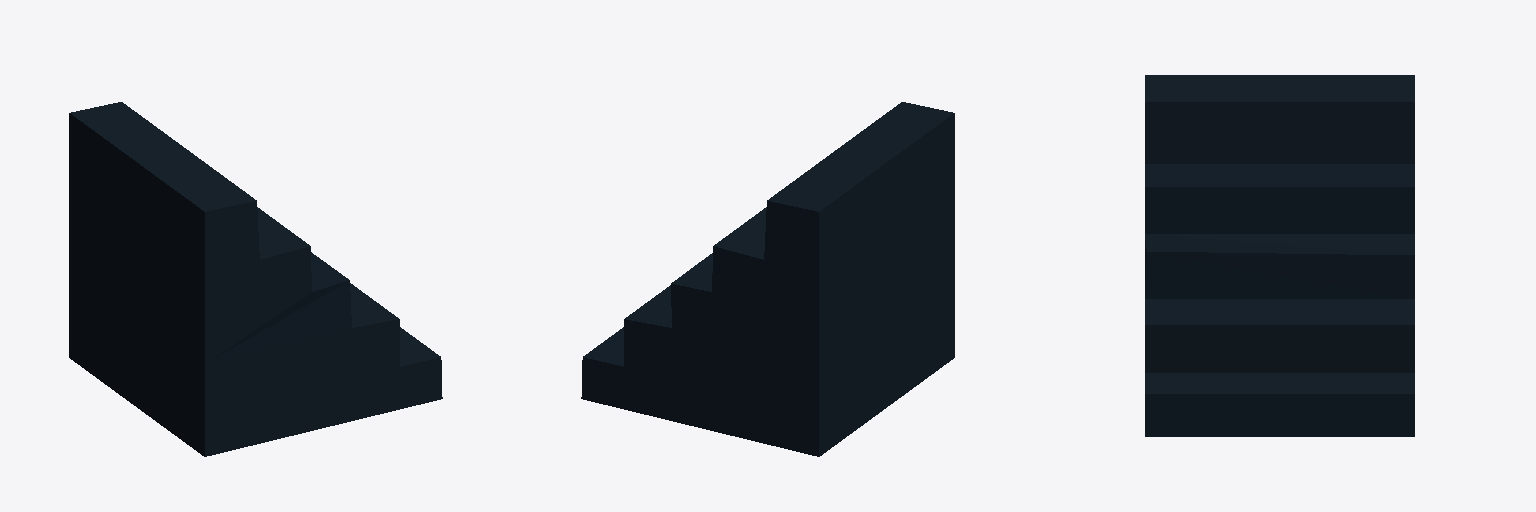
The model's file is Stairs.obj.
3 views of the same model, side by side, from view 1: azimuth 30°, elevation 25°; view 2: azimuth 150°, elevation 25°; view 3: azimuth 270°, elevation 25° (orthographic).
Visible parts, largest first — view 1: Low_Poly; view 2: Low_Poly; view 3: Low_Poly.
Part boxes in pixels (x1,y1,x2,y2): Low_Poly: (69,102,442,456); Low_Poly: (581,102,954,456); Low_Poly: (1145,75,1414,436).
Bounding box in the file's own units: 2.03 × 2 × 2.